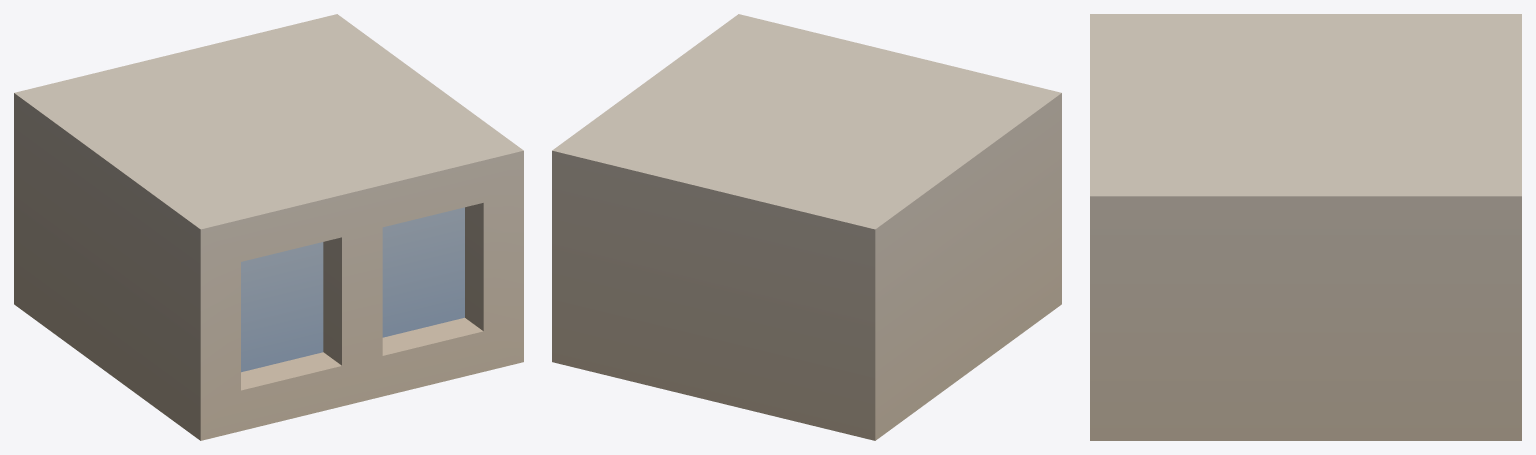
File: building-windows.glb
3 renders of one model, left to right at view 1: azimuth 30°, elevation 25°; view 2: azimuth 150°, elevation 25°; view 3: azimuth 270°, elevation 25°, orthographic. The views are drawn at different scales.
Visible parts, largest first — view 1: building-windows; view 2: building-windows; view 3: building-windows.
Part boxes in pixels (x1,y1,x2,y2): building-windows: [14, 14, 523, 440]; building-windows: [552, 14, 1061, 440]; building-windows: [1090, 14, 1521, 440].
Bounding box in the file's own units: 1 × 0.625 × 1.
